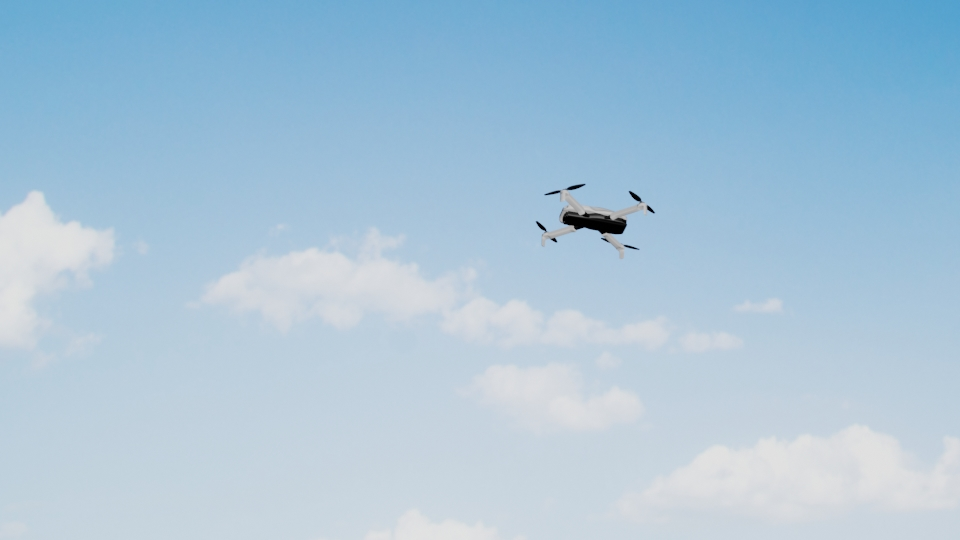drone: (533, 181, 657, 260)
